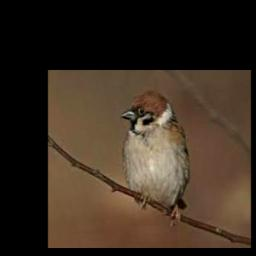Sparrow: (120, 90, 189, 225)
